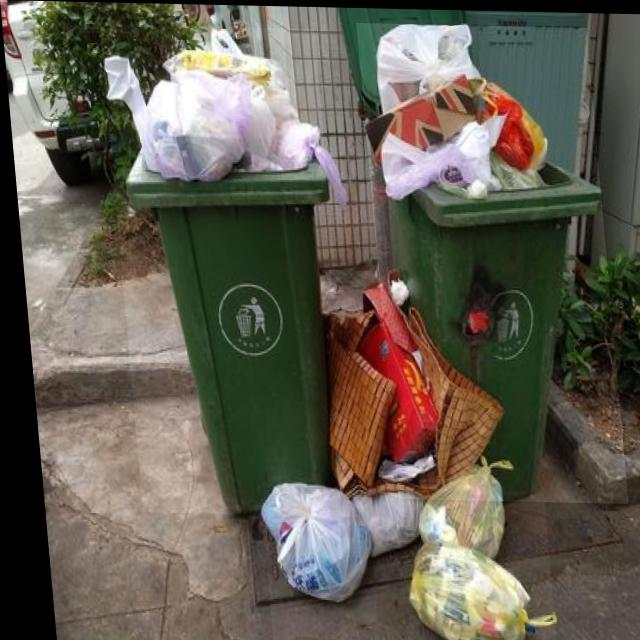garbage: (236, 267, 546, 640)
overflow: (356, 22, 619, 502), (99, 24, 348, 515)
